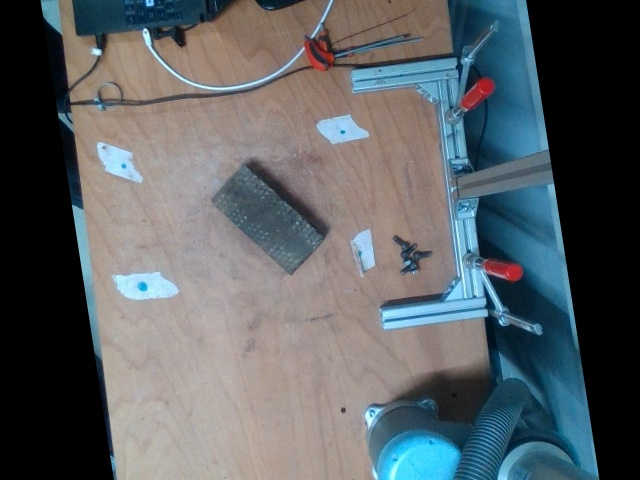brick: (208, 164, 323, 275)
